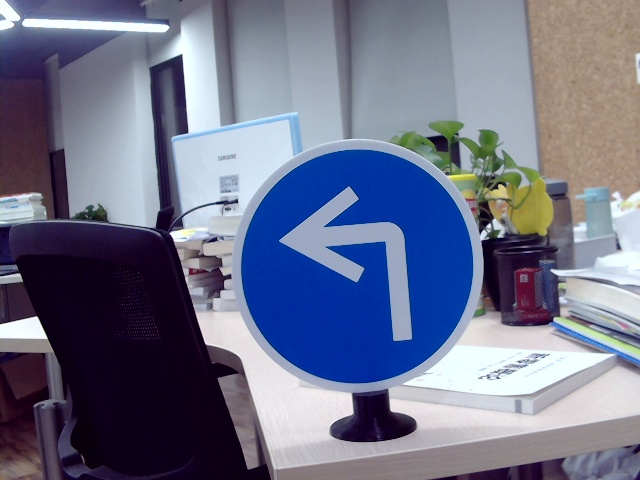turn_left: (281, 187, 422, 351)
